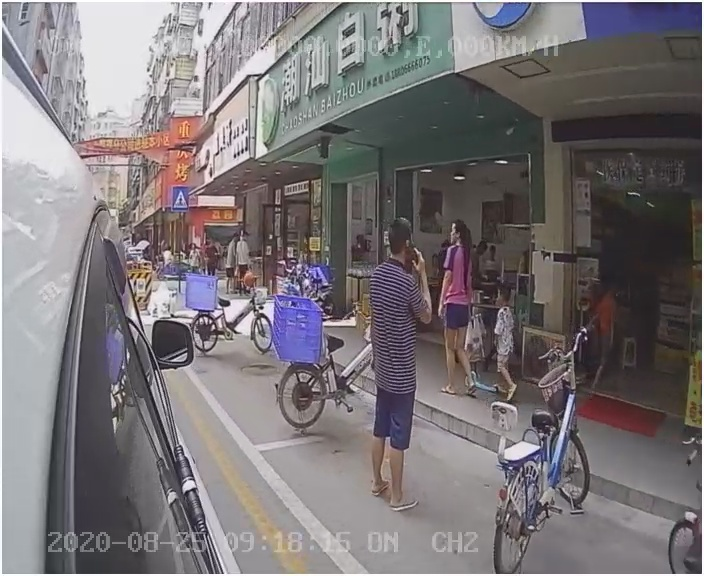person: (353, 215, 438, 512)
